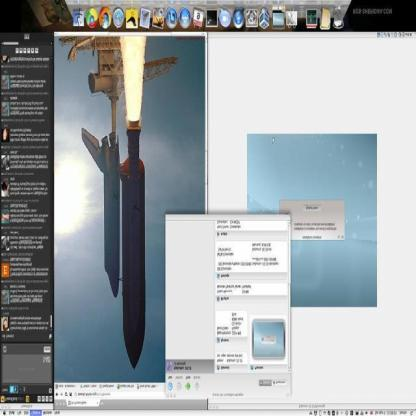MIL_TBM: (121, 150, 147, 372)
